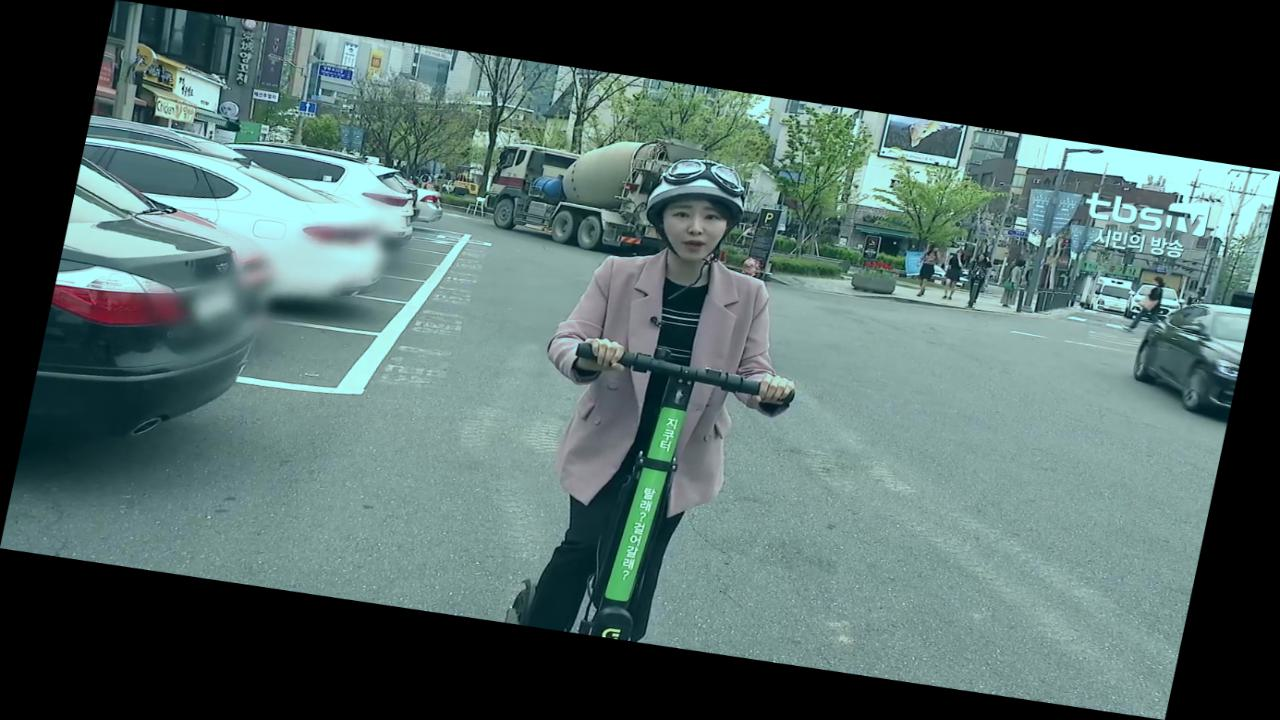helmet: (488, 144, 844, 658)
